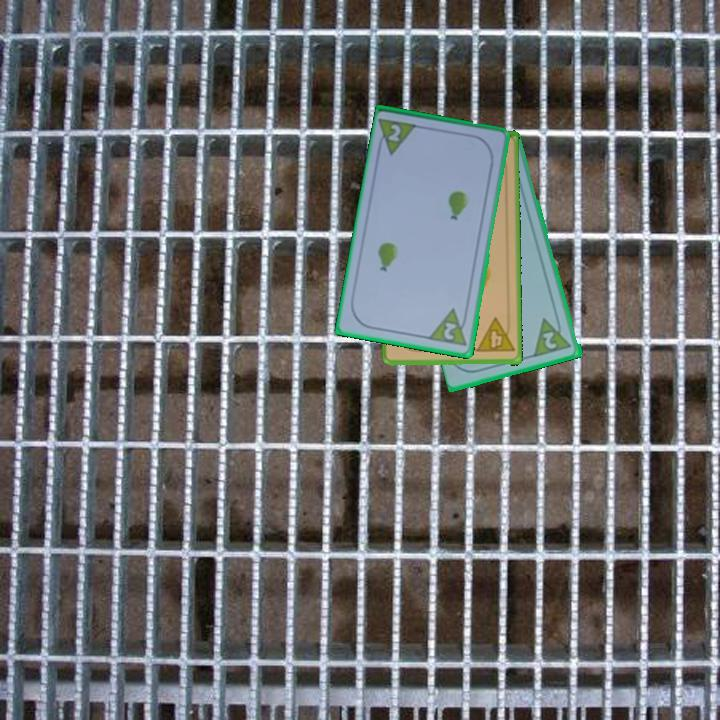2p: (531, 312, 575, 360), (440, 319, 460, 343), (385, 120, 404, 145)
4p: (473, 315, 517, 356)
